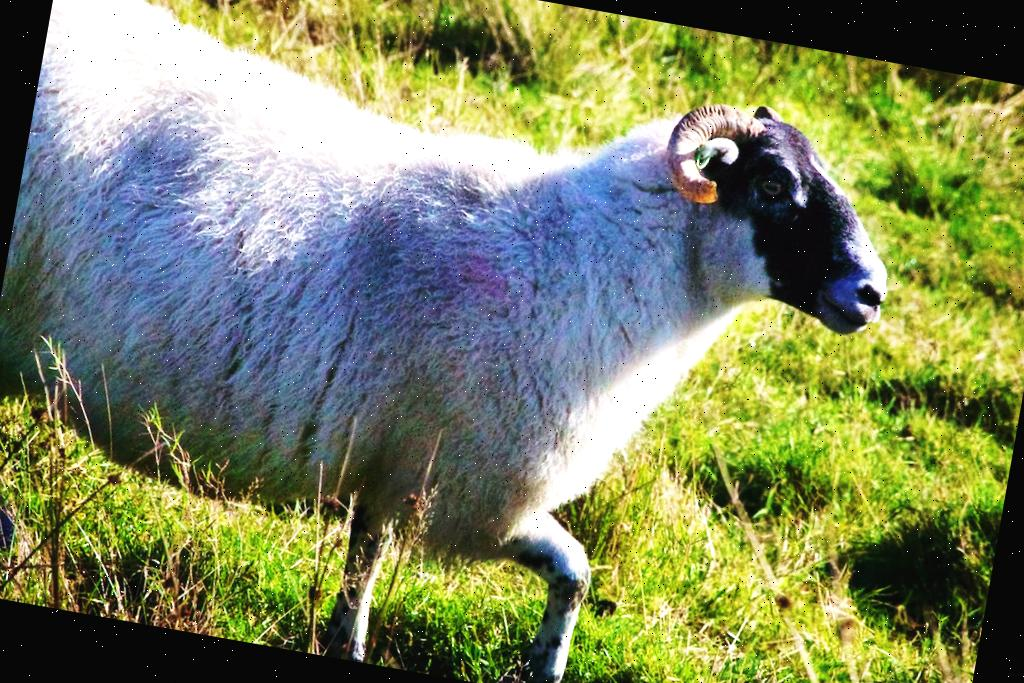Sheep: (22, 0, 915, 683)
